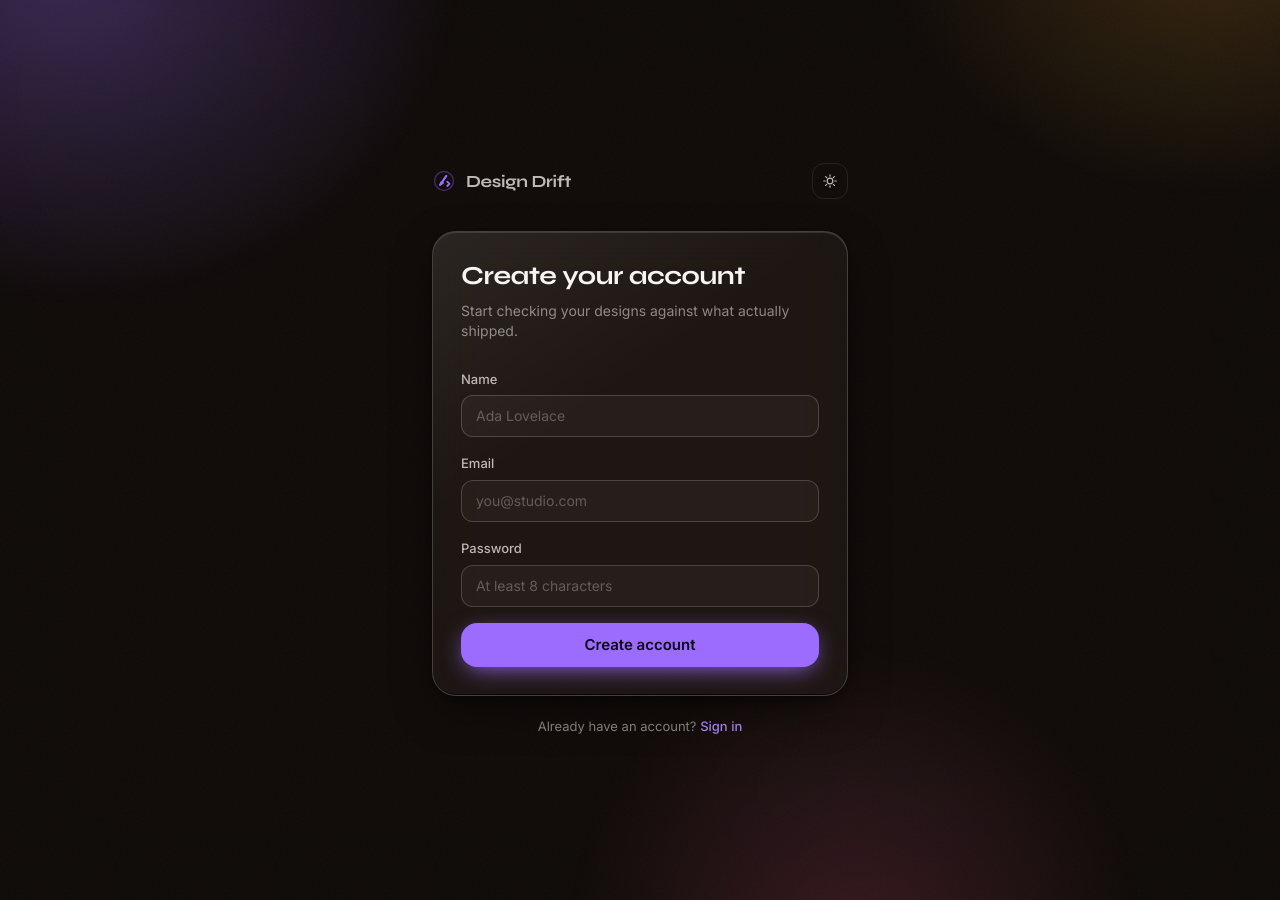
Test case: App › reads a field-level 422 rather than rendering the raw array
Type "Ada" into the field labelled "Name" at (640, 416), box [461, 396, 819, 438]
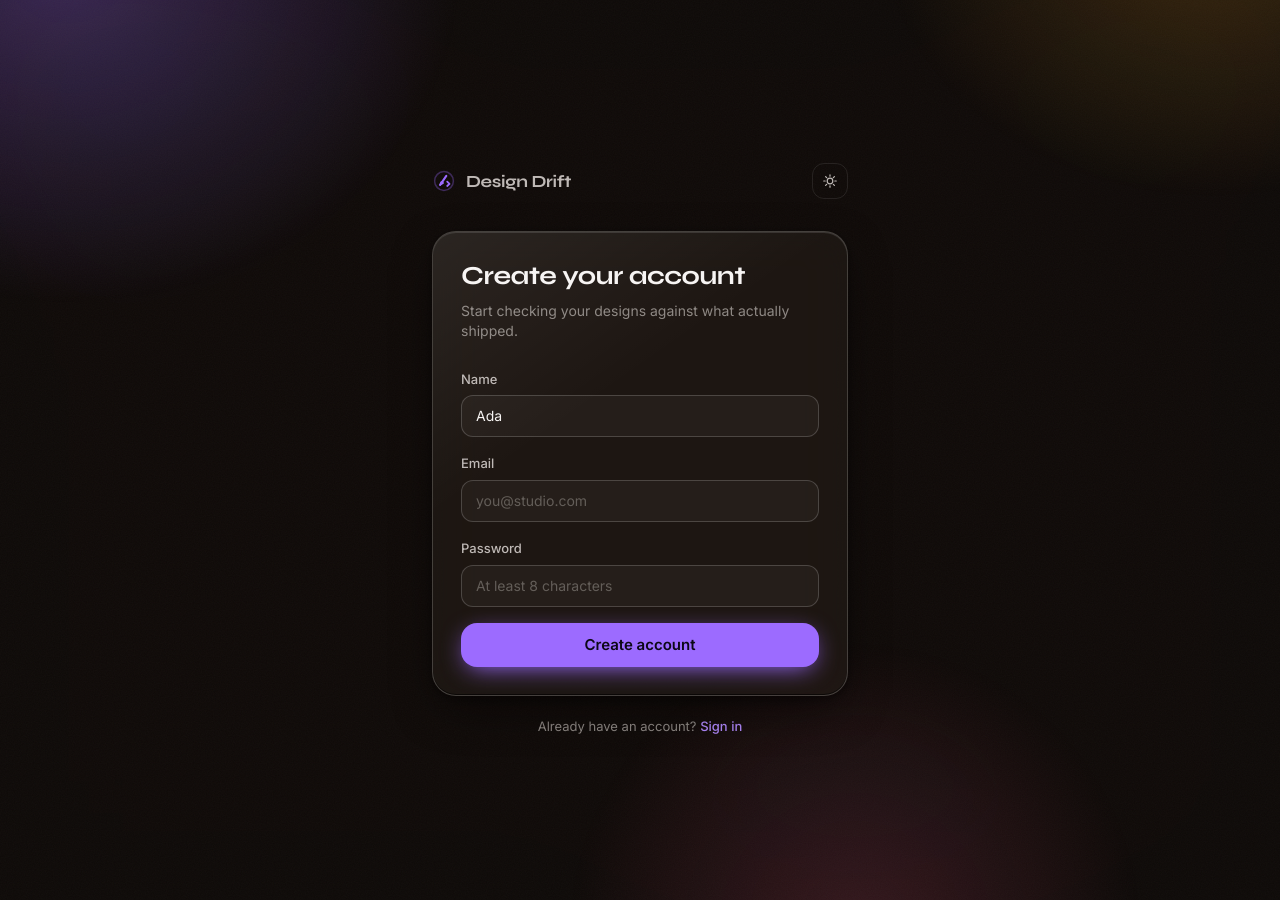
Type "designer@example.com" into the field labelled "Email" at (640, 501), box [461, 480, 819, 522]
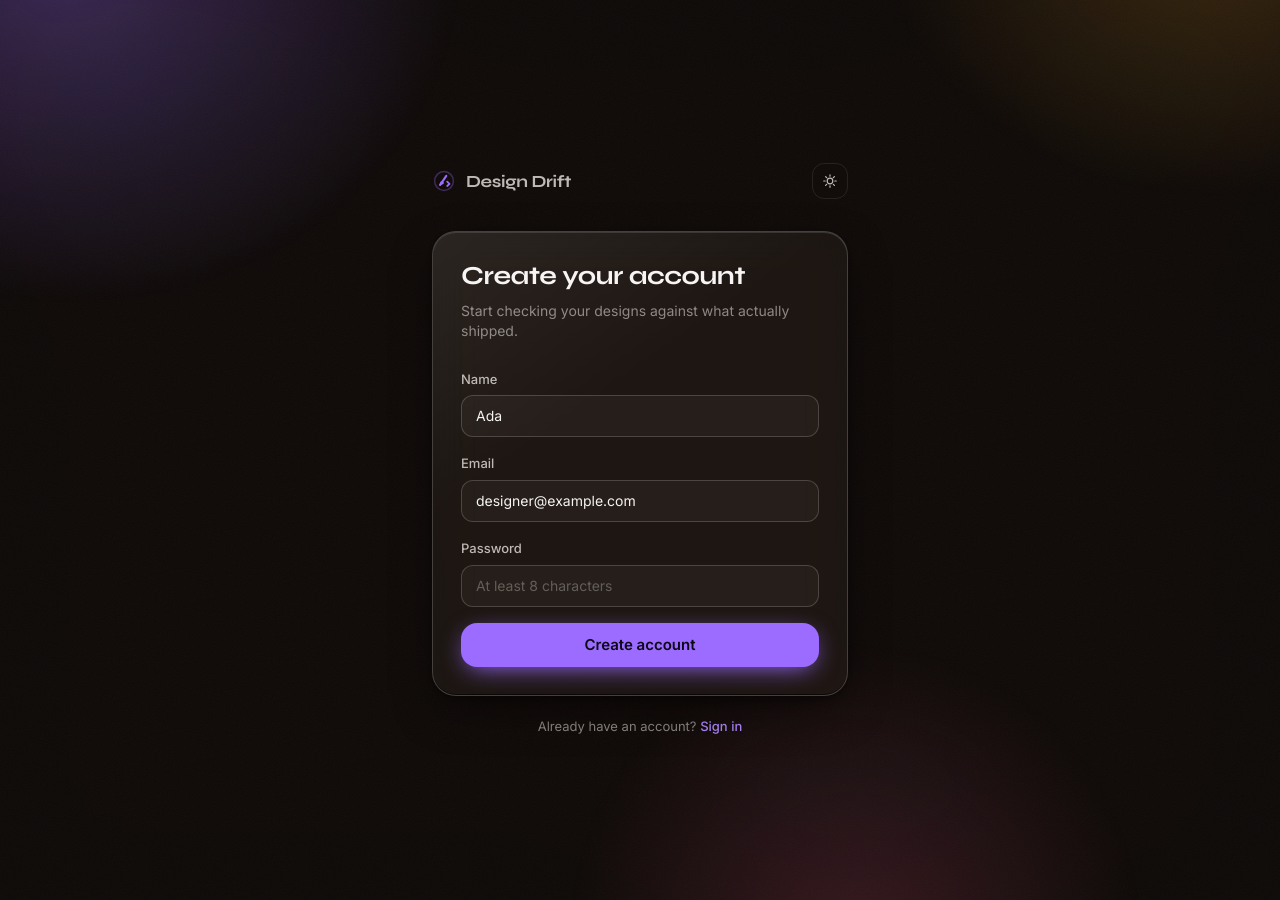
Type "shortpw!" into the password field labelled "Password" at (640, 586), box [461, 565, 819, 607]
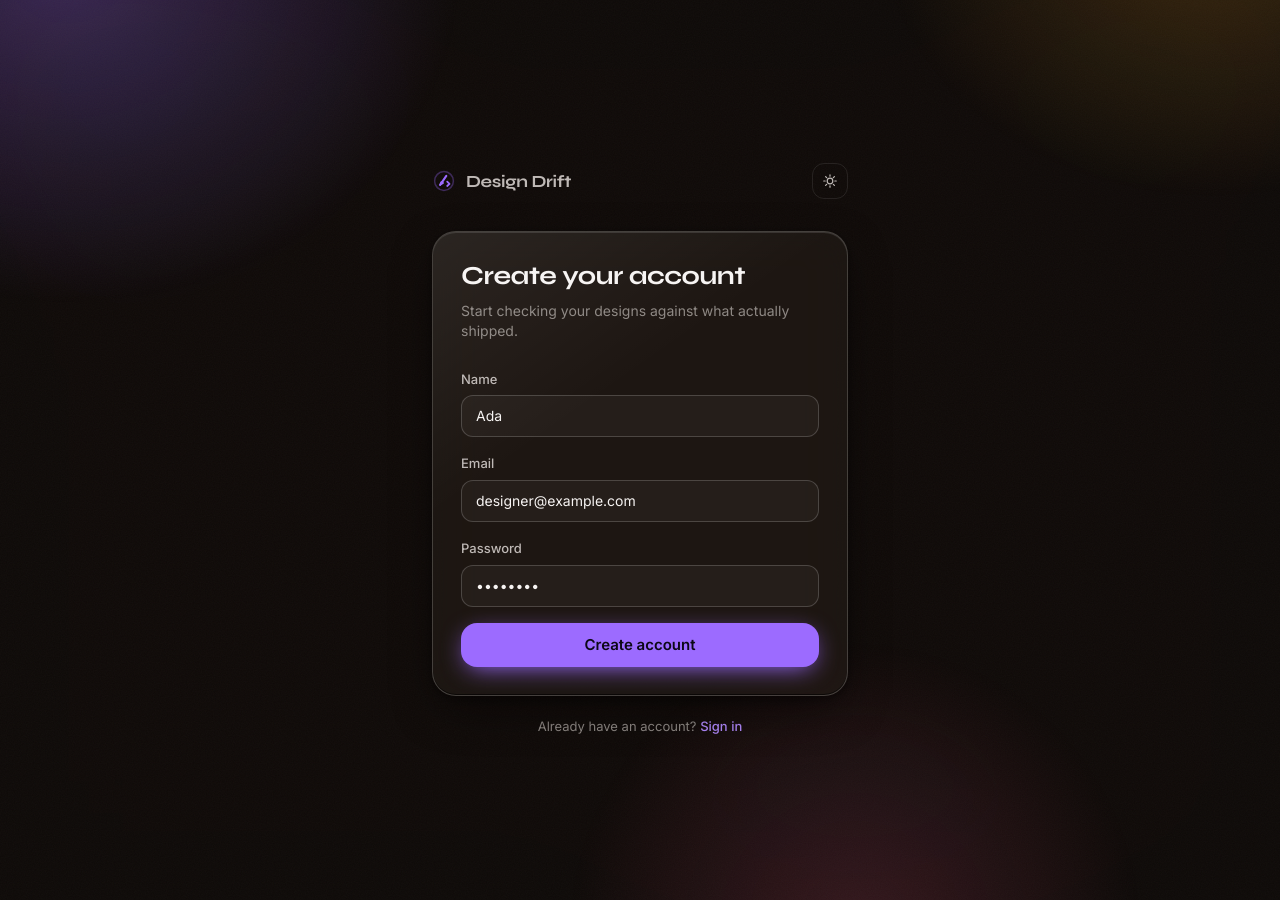
Click the button "Create account" at (640, 645), box [461, 623, 819, 667]
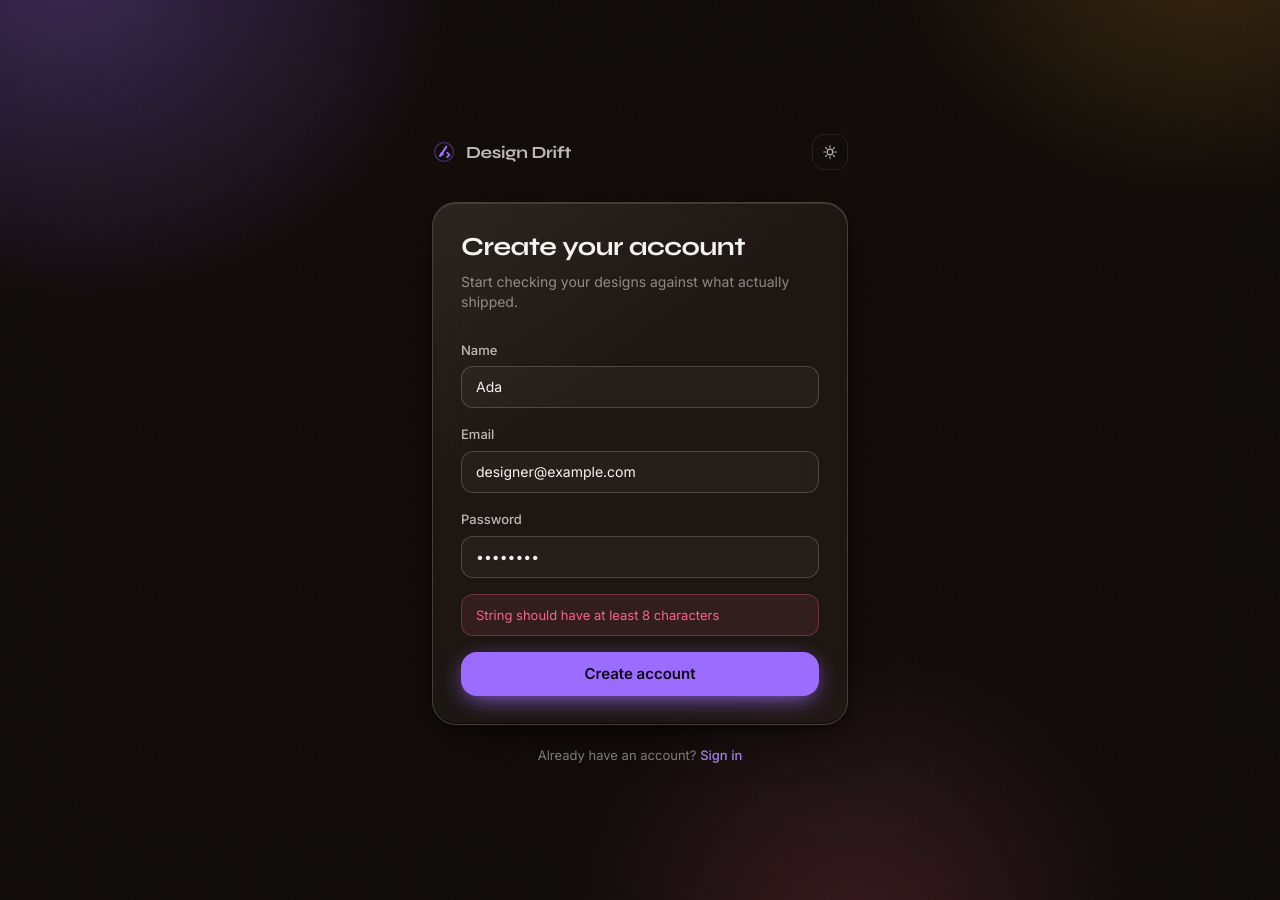
Expected: the message does not show "object", [461, 594, 819, 636]
Expected: the message shows "at least 8 characters", [476, 607, 719, 623]
